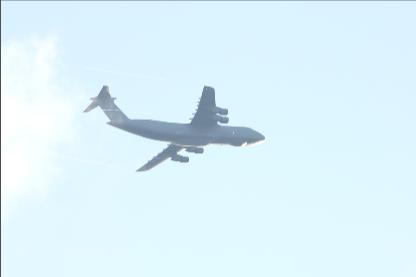C17: (81, 84, 265, 172)
